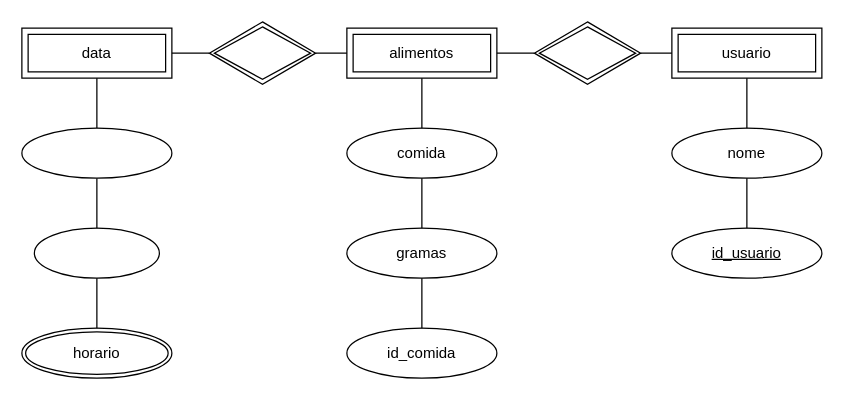
The diagram is 844 pixels wide and 400 high, and some of its shapes have lost their labels. Here are the shapes that lost their labels. From the top down, the centre of each, then its label:
[262,52]: Salvo
[587,52]: Come
[96,152]: dia_mes_ano
[96,252]: cod
